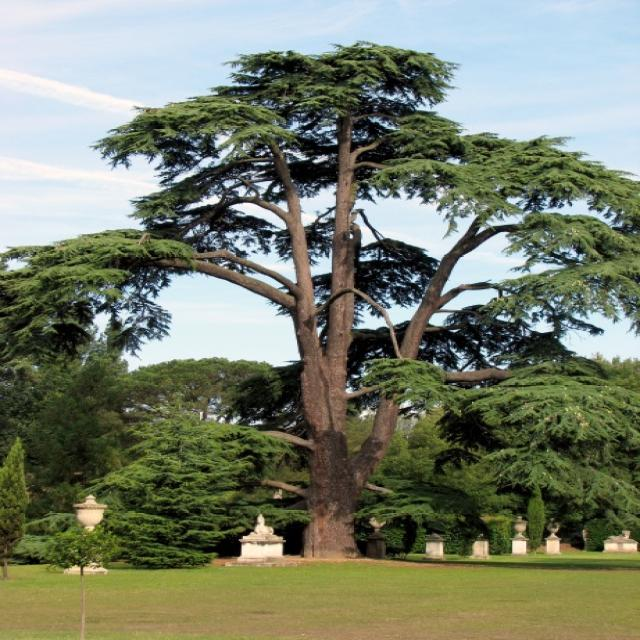cedro: (3, 49, 640, 557)
